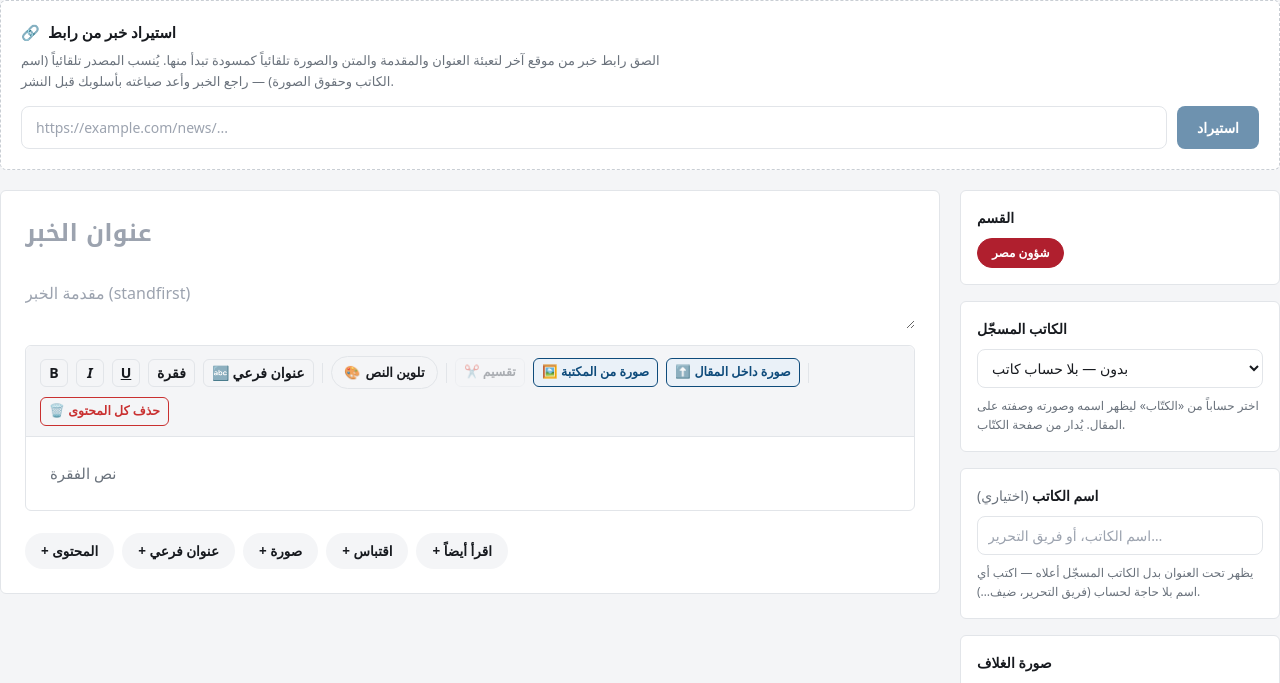
ArticleEditorForm unified body — one static toolbar for every paragraph › does not wrap each paragraph in its own bordered card — one shared container for the whole body
Click the button "+ المحتوى" at (70, 551), box [25,532,114,569]
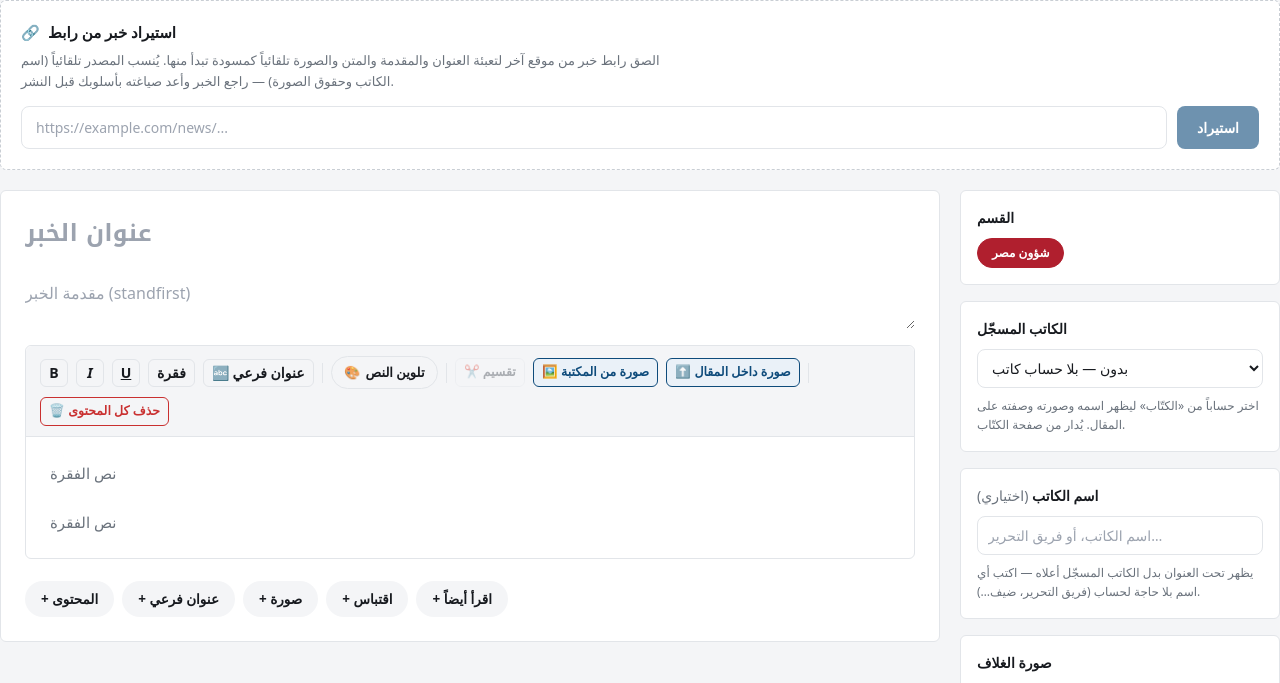
Click the button "+ المحتوى" at (70, 599), box [25,581,114,617]
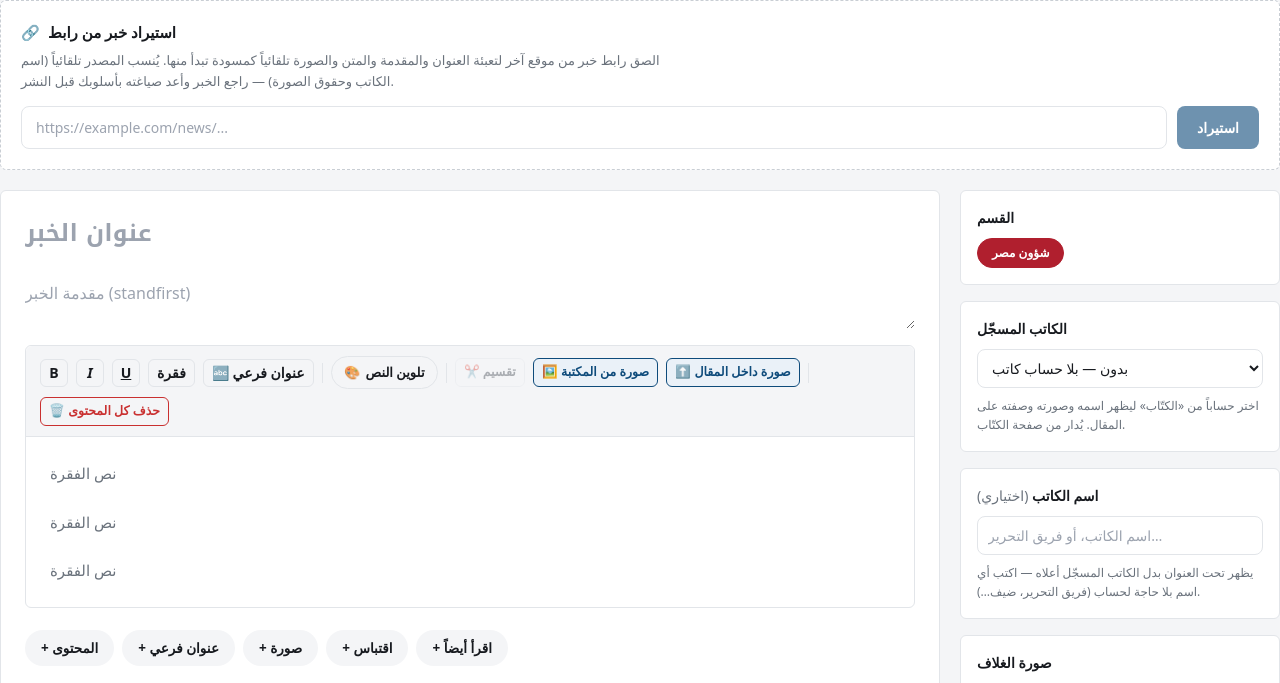
Now the number of fields named "نص الفقرة" is 3, box [40,449,900,498]; [40,498,900,546]; [40,546,900,594]
